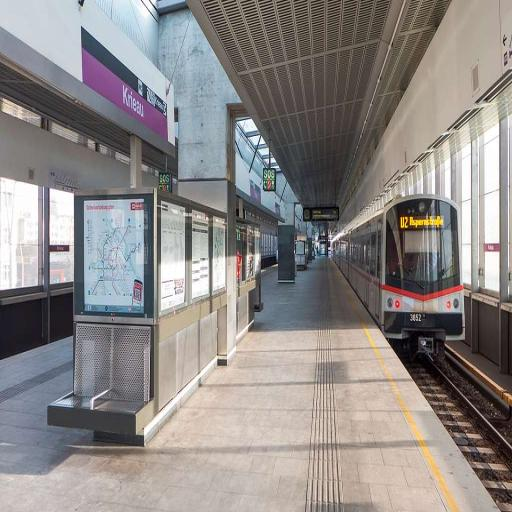V-Wagen: (332, 191, 463, 338)
